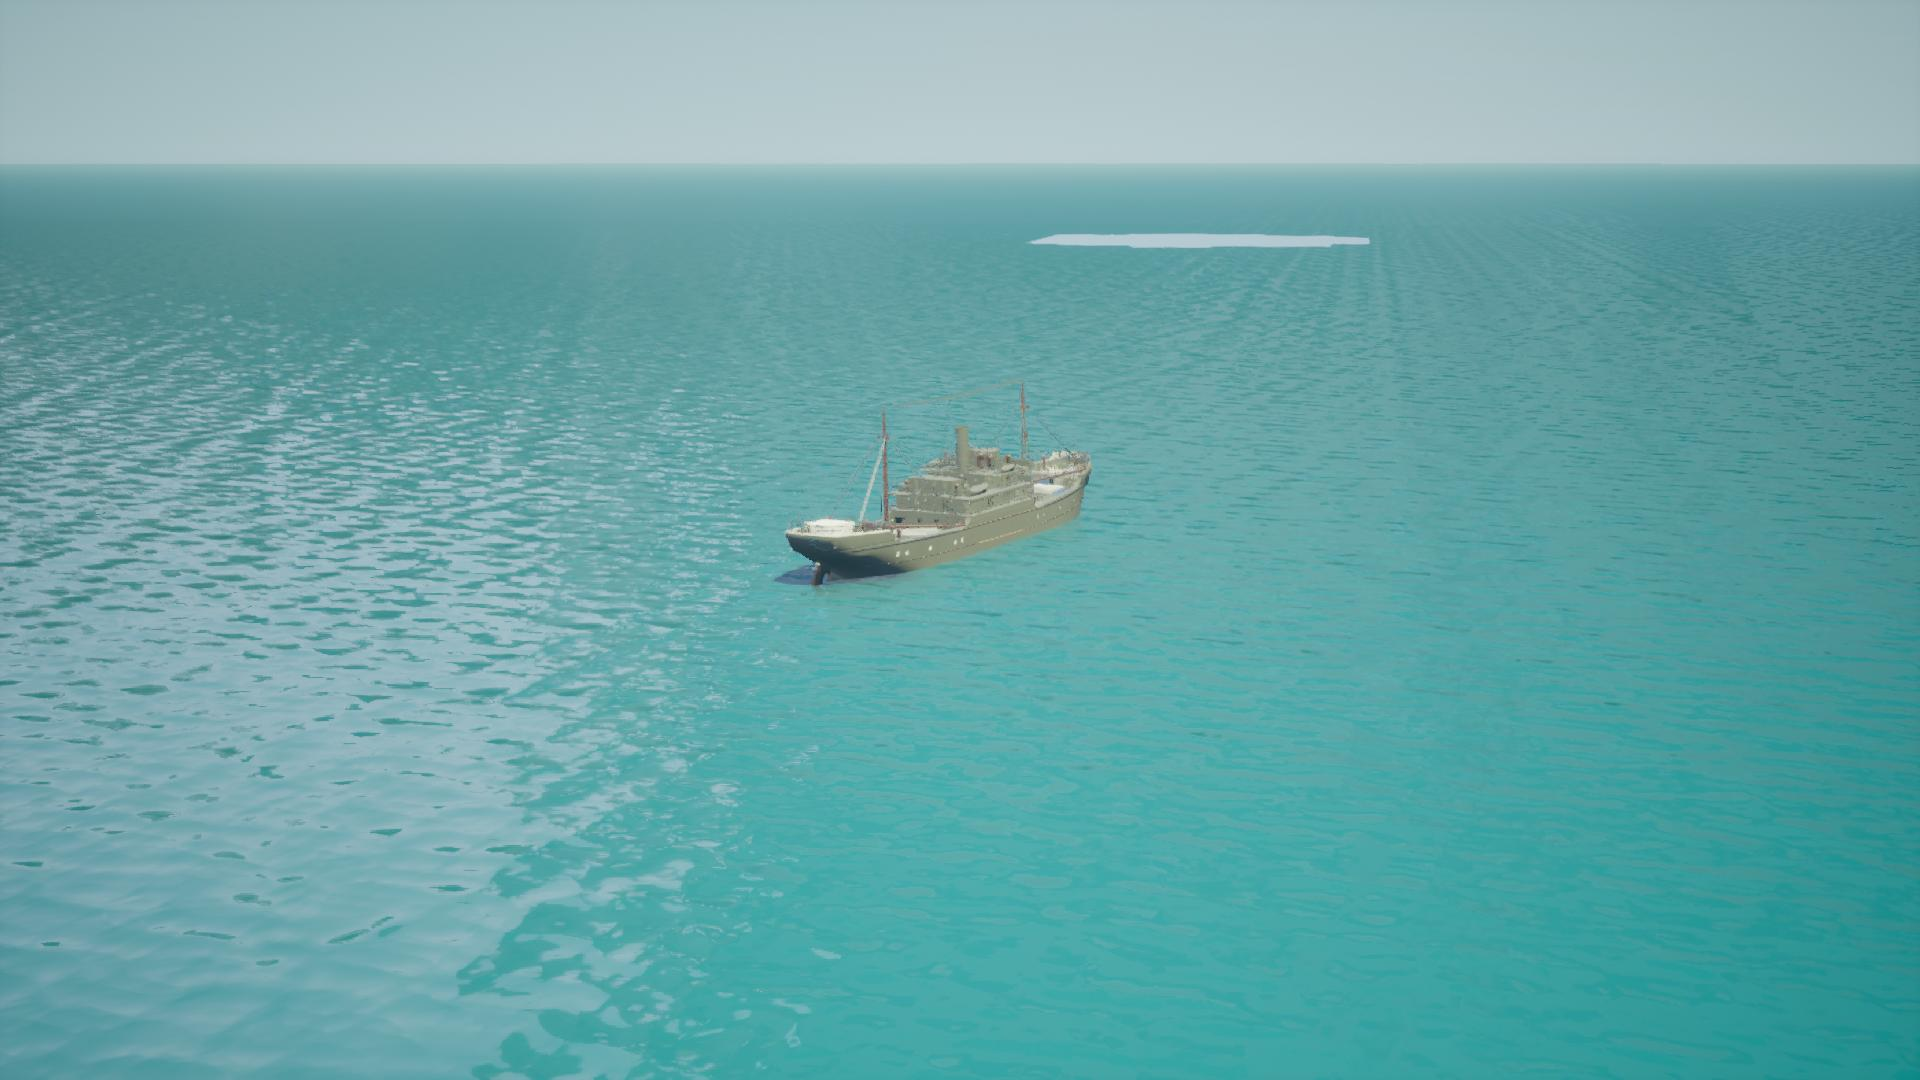Fishing Boat: (778, 385, 1091, 587)
